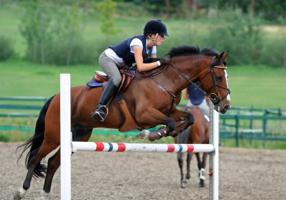person: (92, 20, 172, 121)
